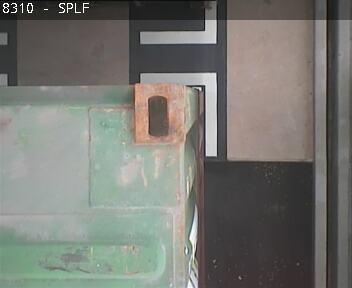groundmarker_1: (139, 1, 215, 156)
